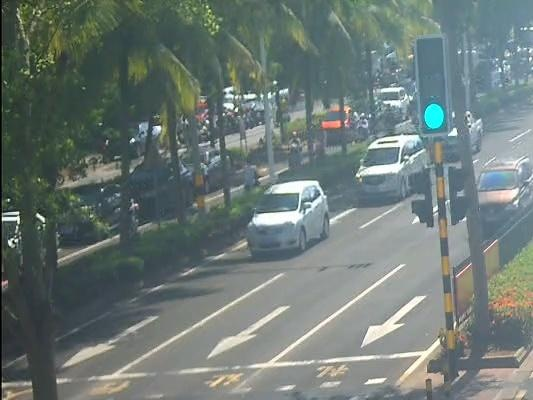green: (420, 104, 448, 130)
